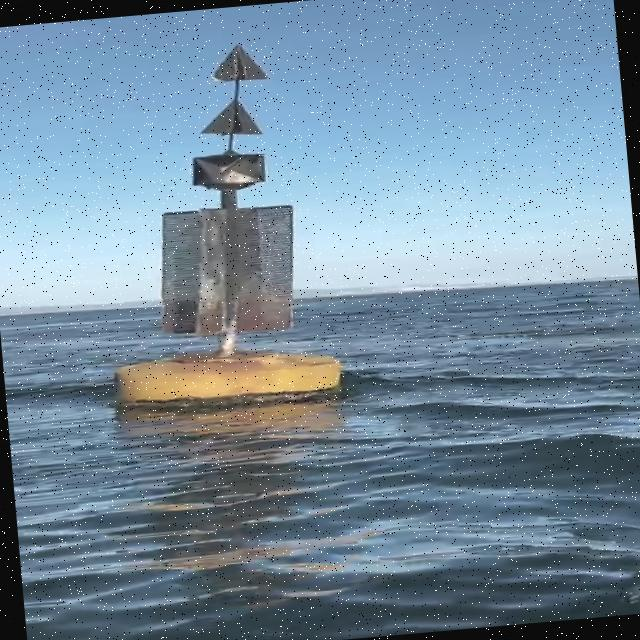marque: (80, 32, 351, 423)
